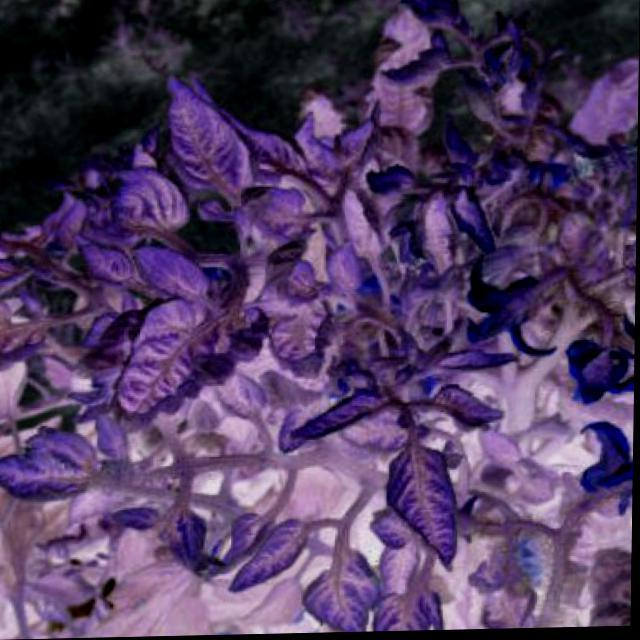Tomato healthy leaf: (99, 294, 278, 446), (142, 68, 255, 197), (376, 438, 480, 570), (0, 425, 112, 528), (248, 302, 358, 386), (113, 240, 224, 323), (224, 517, 317, 601), (461, 286, 574, 350), (304, 554, 391, 633), (367, 575, 487, 632)
